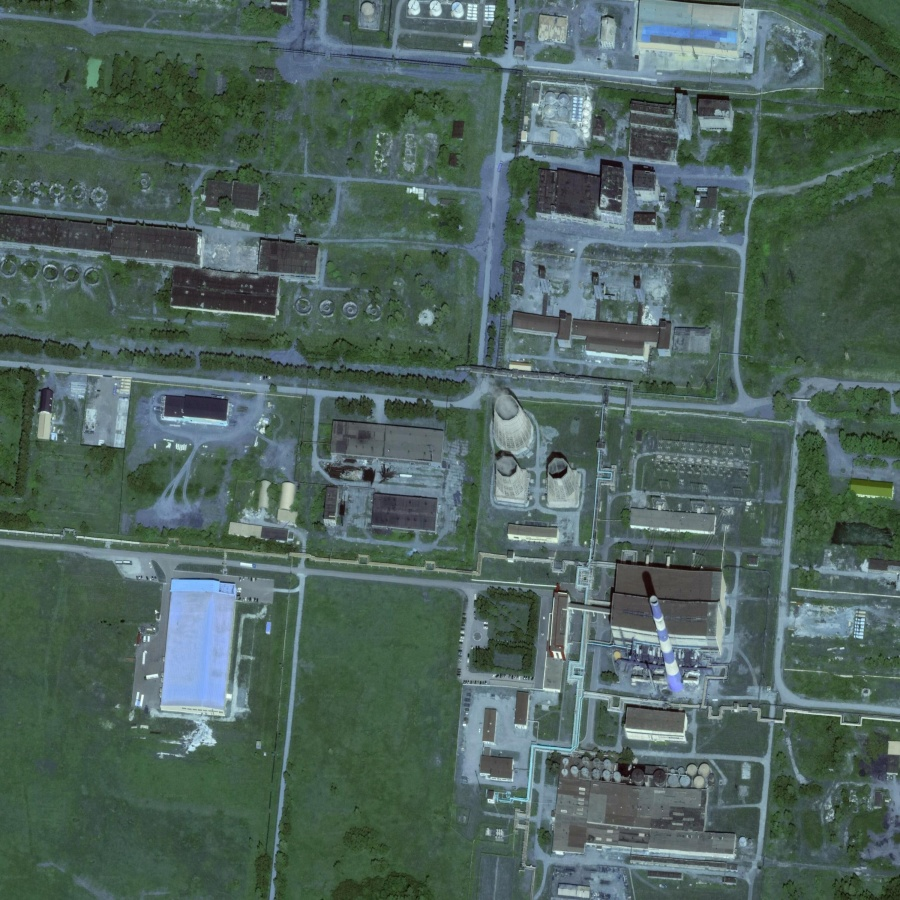PowerPlant: (464, 384, 757, 743)
